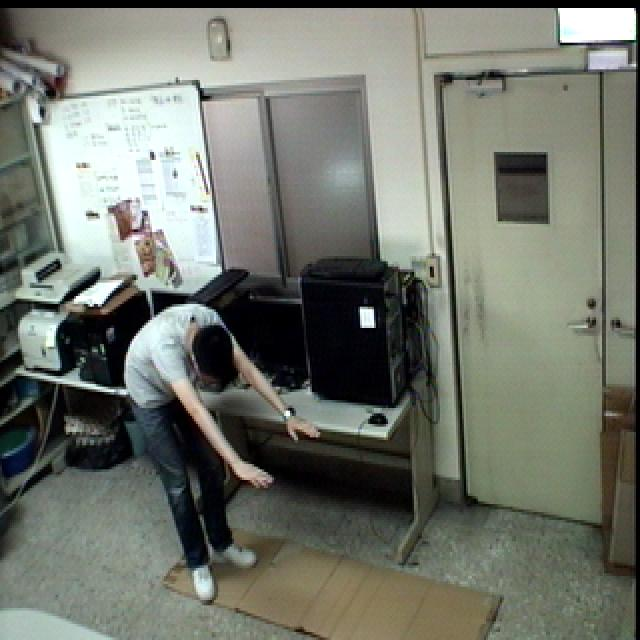bend: (122, 294, 315, 607)
